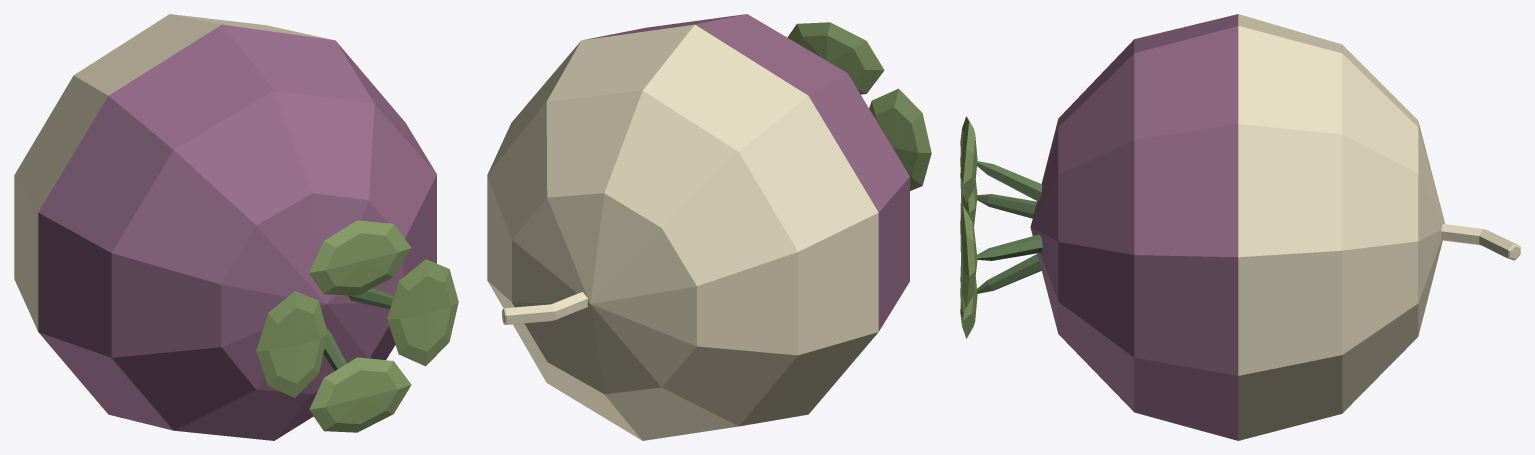
Rendered from turnip.glb.
The picture shows the model from 3 angles, left to right: view 1: azimuth 30°, elevation 25°; view 2: azimuth 150°, elevation 25°; view 3: azimuth 270°, elevation 25°; orthographic projection.
Visible parts, largest first — view 1: turnip; view 2: turnip; view 3: turnip.
Boxes of the visible parts, box(x1,y1,x2,y2) form: turnip: box(14, 14, 458, 440); turnip: box(487, 14, 931, 440); turnip: box(960, 14, 1520, 440).
Size of the model in its own units: 0.0913 by 0.0963 by 0.1213.
